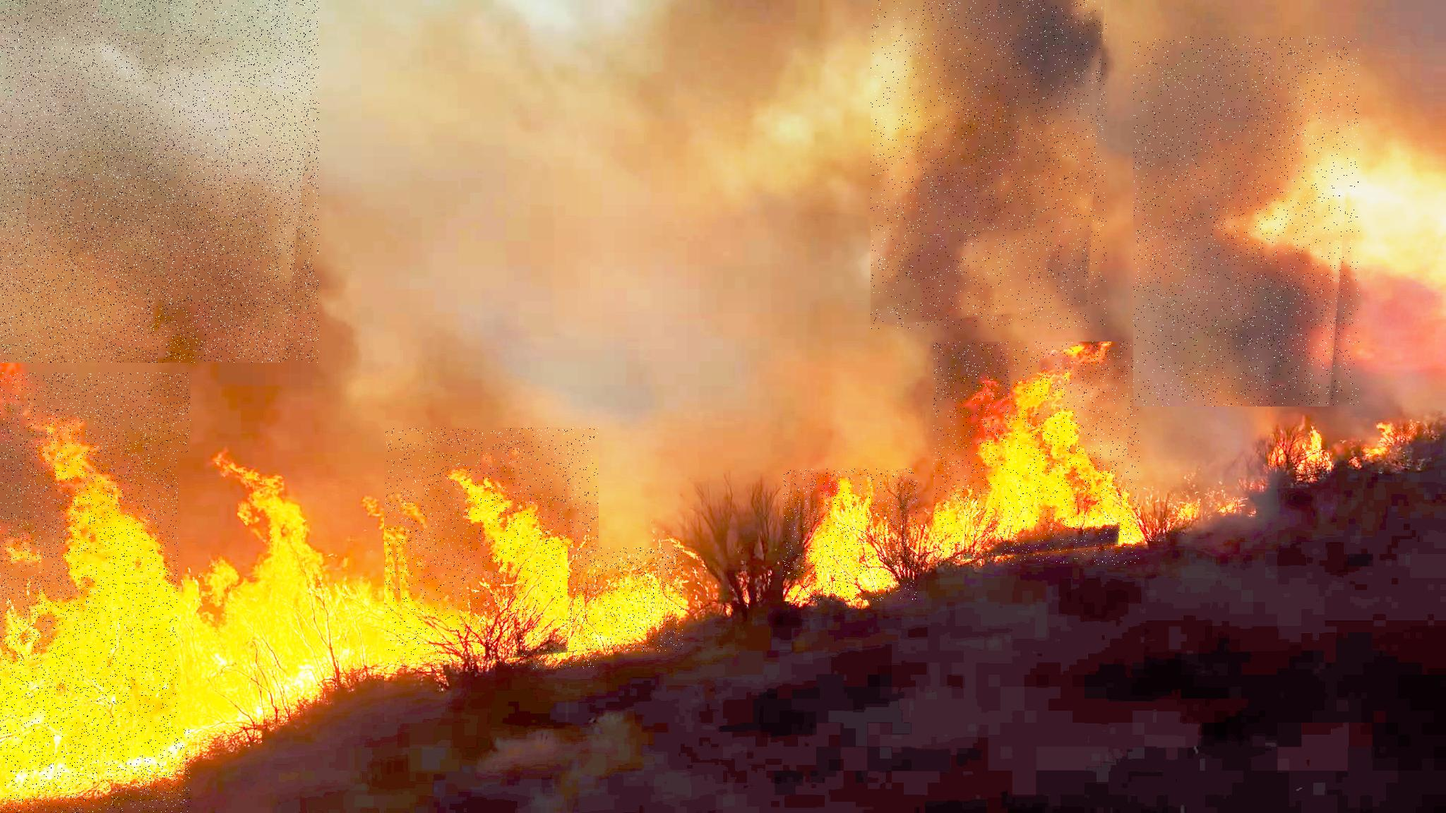fire: (0, 373, 191, 813), (178, 452, 384, 729), (385, 428, 599, 669), (933, 342, 1140, 565), (783, 469, 917, 601), (568, 548, 684, 652)
smoke: (0, 0, 319, 363), (1133, 37, 1359, 406), (871, 0, 1106, 329)
